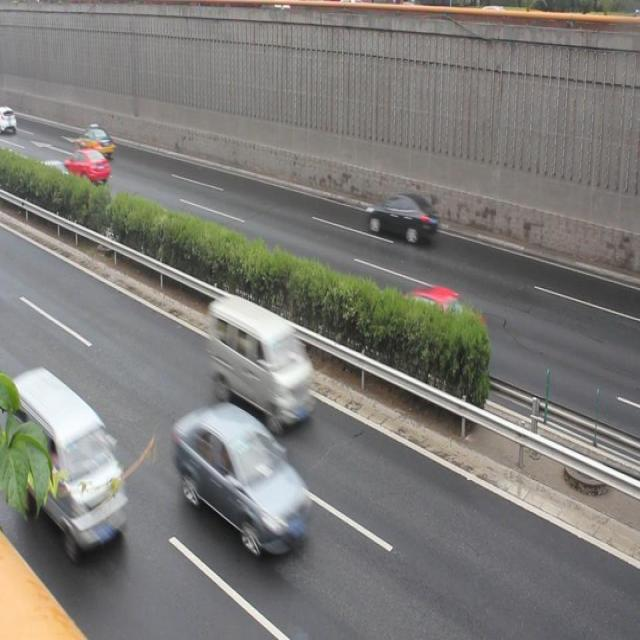car: (175, 408, 306, 548), (365, 283, 483, 365), (364, 191, 433, 243), (29, 156, 74, 200), (63, 149, 110, 182), (72, 124, 112, 156)
truck: (0, 369, 126, 545), (206, 292, 314, 423)
